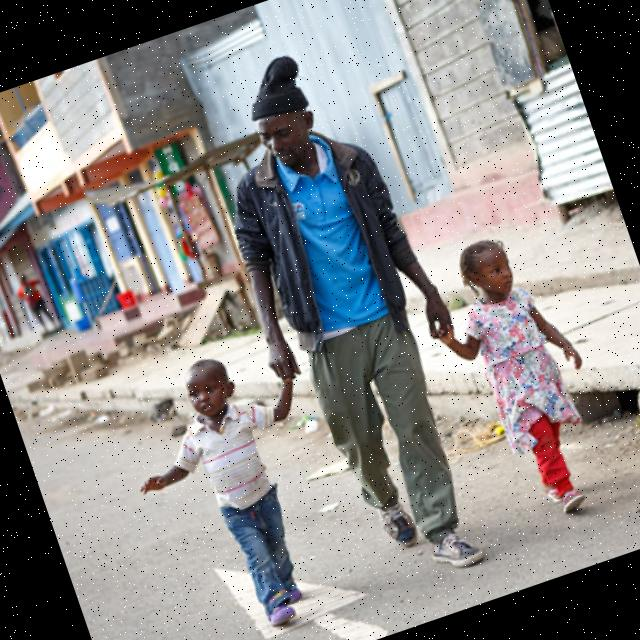Person: (176, 32, 530, 603), (106, 334, 363, 640), (411, 222, 626, 536)
